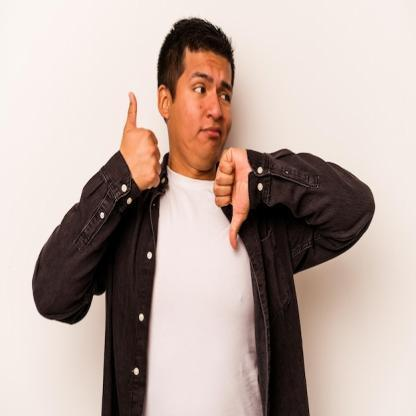thumb_down: (210, 140, 258, 252)
thumb_up: (115, 89, 173, 194)
